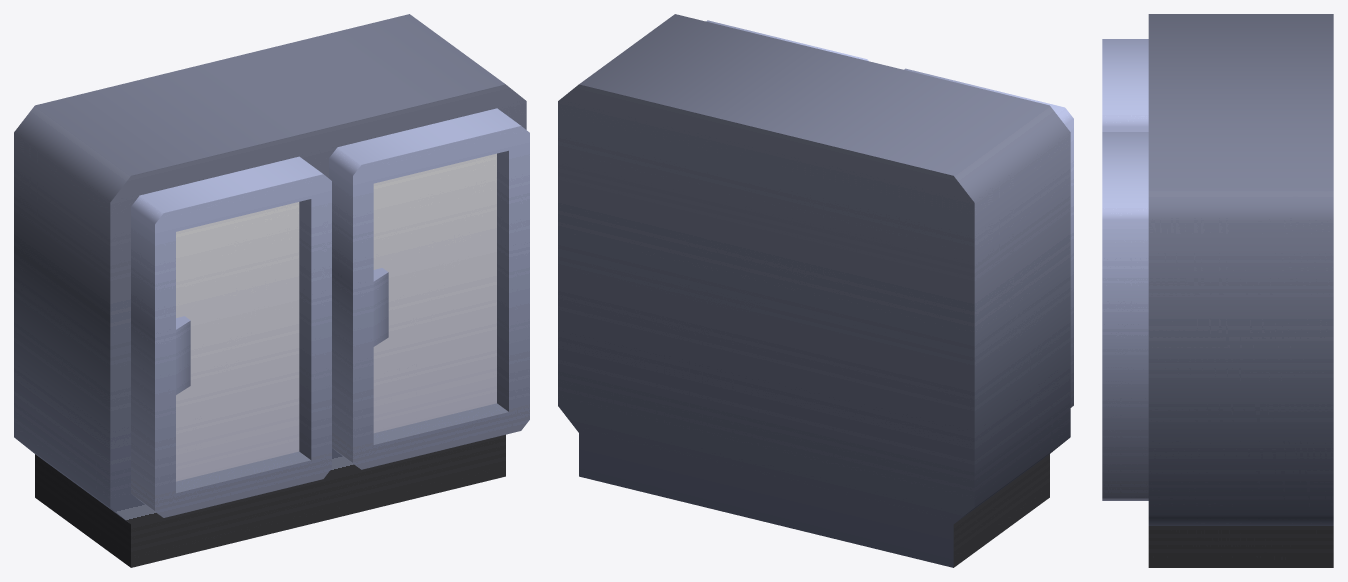
The model's file is freezers_standing.glb.
The picture shows the model from 3 angles, left to right: view 1: azimuth 30°, elevation 25°; view 2: azimuth 150°, elevation 25°; view 3: azimuth 270°, elevation 25°; orthographic projection. The views are drawn at different scales.
Parts seen in each view (by area): view 1: freezers-standing; view 2: freezers-standing; view 3: freezers-standing.
Boxes of the visible parts, left/top/right/bottom form: freezers-standing: left=14, top=14, right=529, bottom=567; freezers-standing: left=558, top=14, right=1073, bottom=567; freezers-standing: left=1102, top=14, right=1333, bottom=567.
Size of the model in its own units: 1 by 0.9 by 0.5.
1 material, 1 textured.
